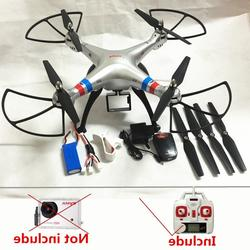drone: (2, 8, 233, 134)
